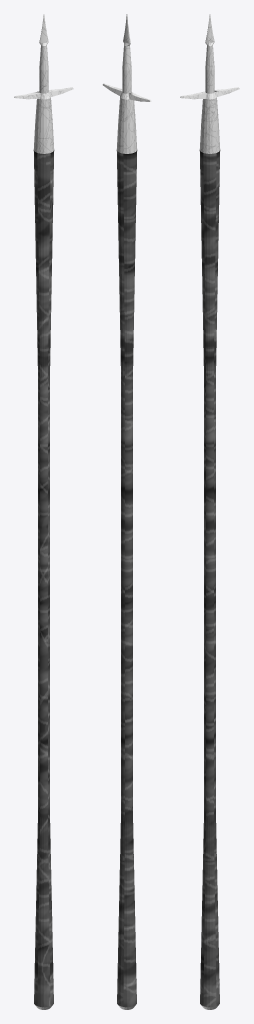
The model's file is 707781Spear.FBX.
3 renders of one model, left to right at view 1: azimuth 90°, elevation 25°; view 2: azimuth 210°, elevation 25°; view 3: azimuth 270°, elevation 25°, orthographic.
Parts seen in each view (by area): view 1: Cylinder001; view 2: Cylinder001; view 3: Cylinder001.
Part boxes in pixels (left/top/right/bottom): Cylinder001: left=14, top=14, right=73, bottom=1009; Cylinder001: left=102, top=14, right=151, bottom=1009; Cylinder001: left=180, top=14, right=239, bottom=1009.
Size of the model in its own units: 7.04 by 332 by 17.94.
1 material, 1 textured.
